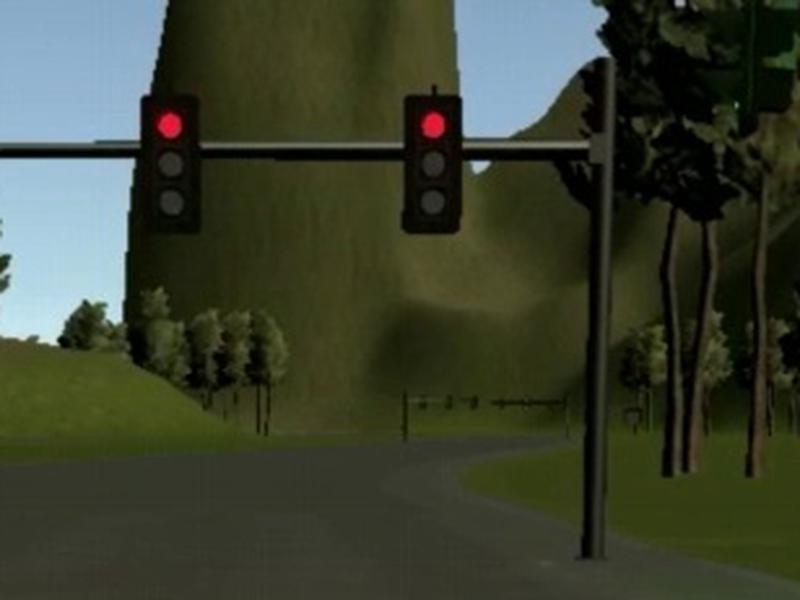Red: (139, 94, 201, 237), (400, 95, 462, 235)
